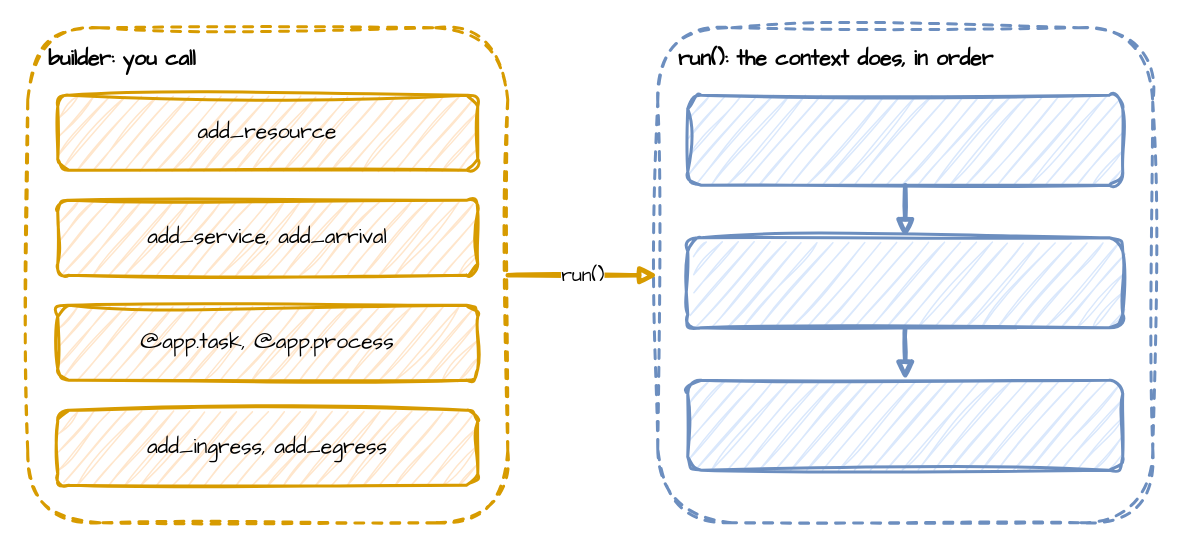
This 1179x549 diagram has some shape labels left out. Each missing label, with the centre of its shape:
creates the DynamicRealtimeEnvironment: (x=905, y=139)
starts the ingress and egress threads: (x=905, y=282)
starts the processes and runs the clock: (x=905, y=424)
